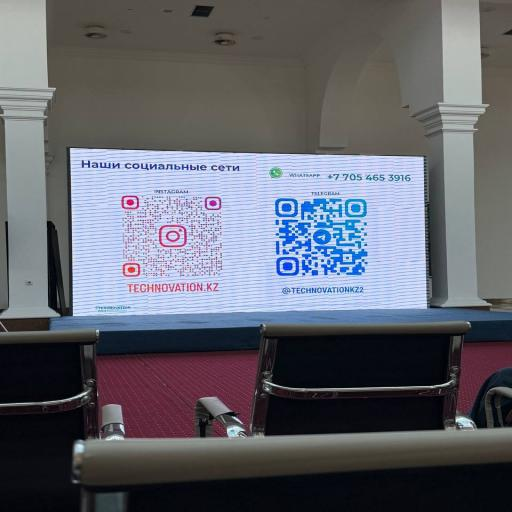bus: (74, 429, 511, 511), (195, 322, 474, 436), (0, 329, 99, 511)
